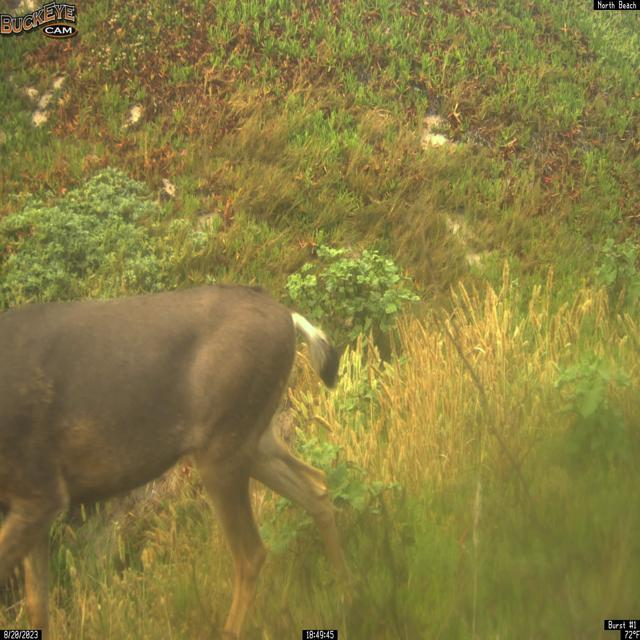deer: (0, 281, 354, 640)
